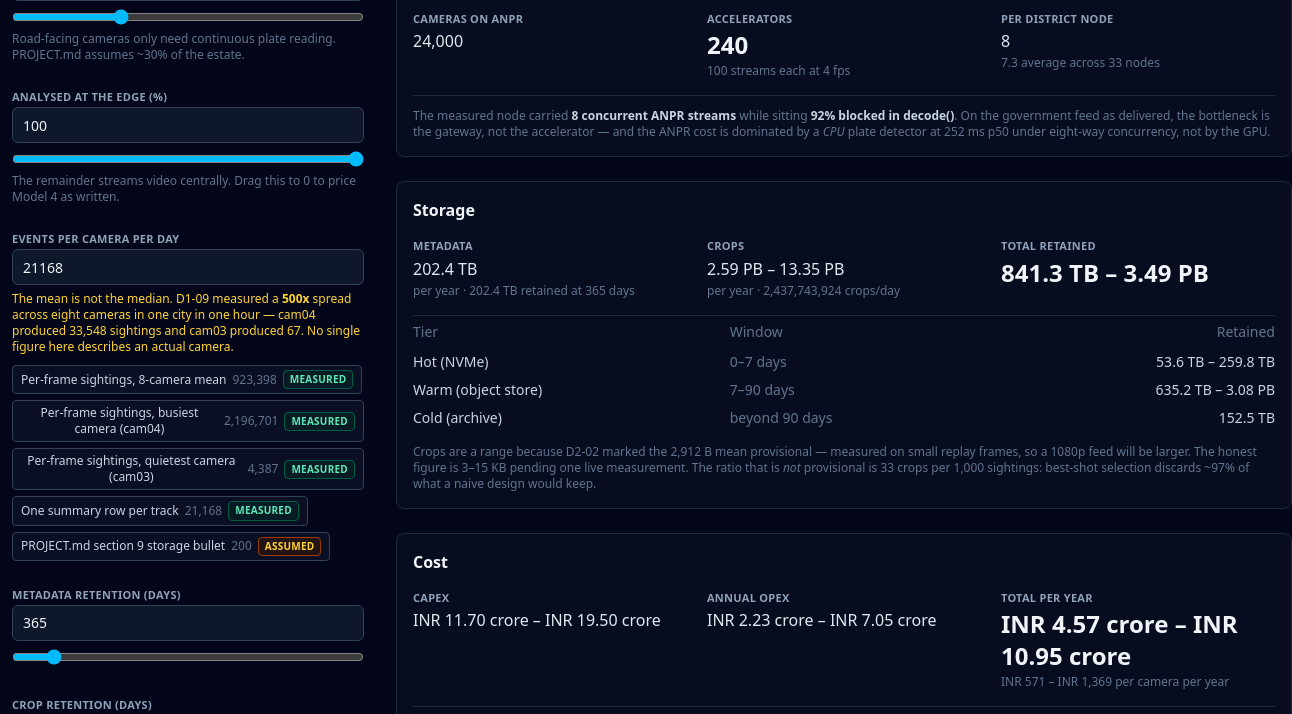
the sizing calculator recomputes from its inputs (AC 1) › recomputes when the event rate changes, and offers the measured anchors
(page scrolled)
Note: The per-frame anchor: what the PoC write path actually emits today.
Click the button "Per-frame sightings, 8-camera mean 923,398 measured". click: {"x": 187, "y": 380}
box: [12,365,362,394]
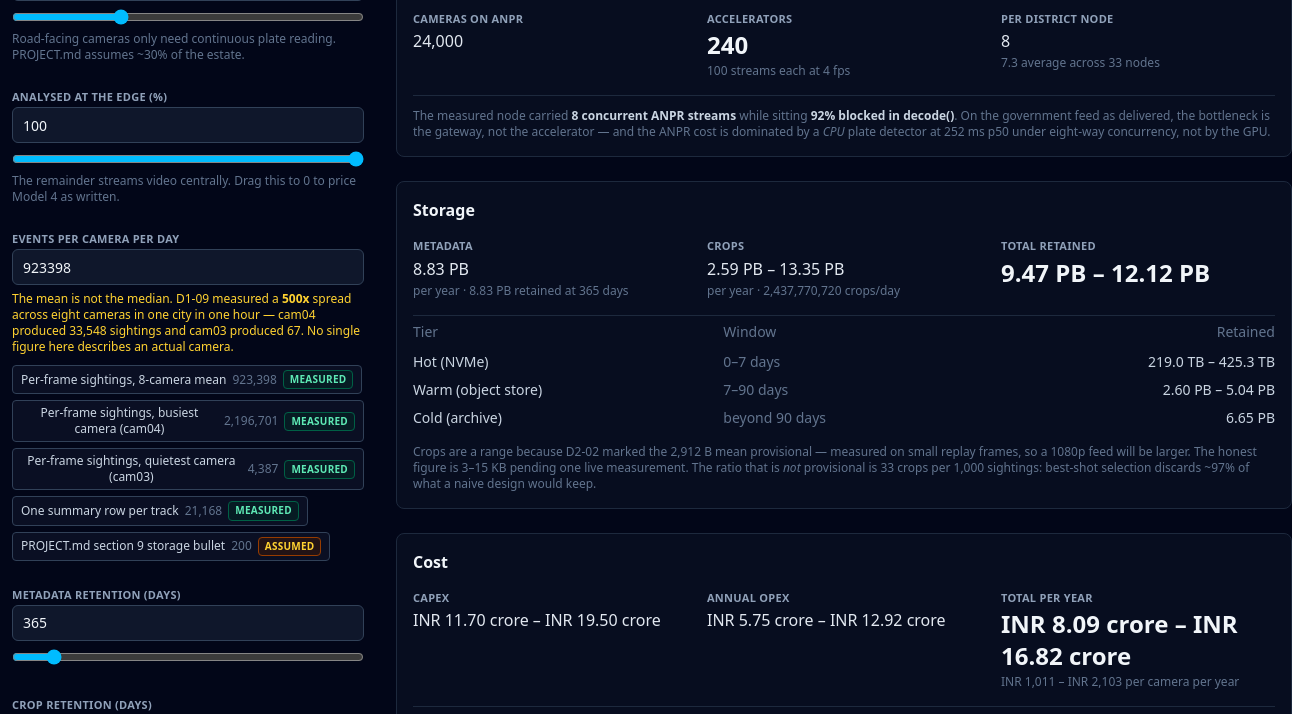
Check: the number field labelled "Events per camera per day" holds "923398", box [12,249,364,285]
